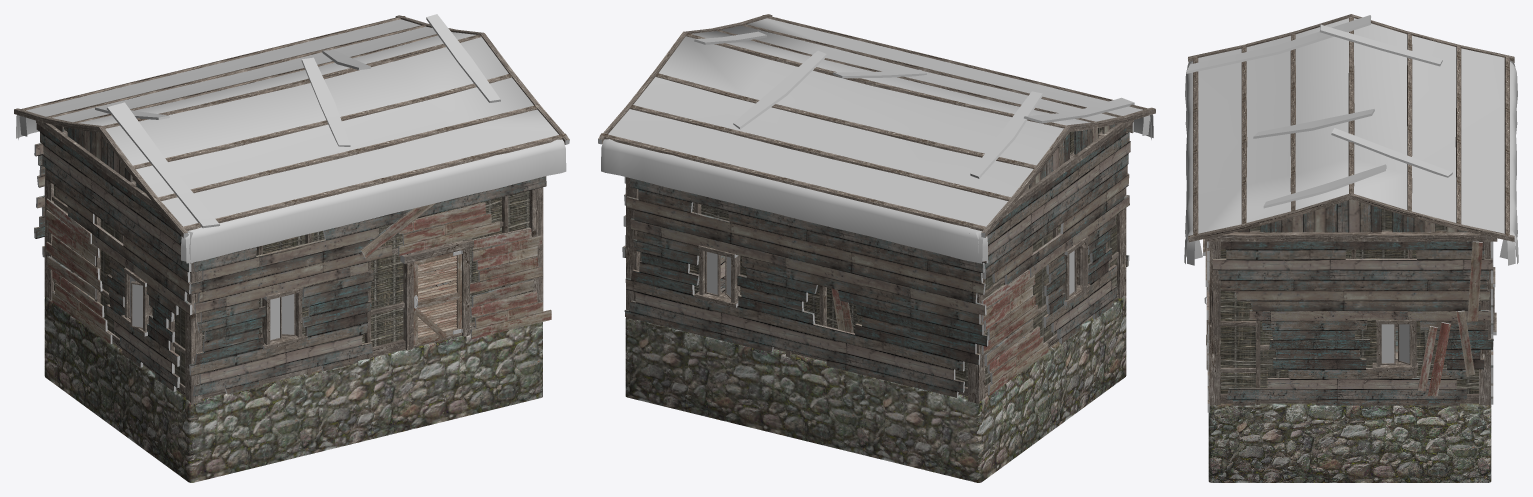
Rendered from House7.fbx.
3 views of the same model, side by side, from view 1: azimuth 30°, elevation 25°; view 2: azimuth 150°, elevation 25°; view 3: azimuth 270°, elevation 25° (orthographic). The views are drawn at different scales.
Visible parts, largest first — view 1: Base, Roof, Floor, Alpha, Doors; view 2: Base, Roof, Floor, Alpha; view 3: Roof, Base, Floor, Alpha.
Boxes of the visible parts, x1,y1,x2,y2 form: Base: (34, 123, 551, 404); Roof: (14, 14, 569, 238); Floor: (44, 268, 542, 482); Alpha: (16, 18, 566, 263); Doors: (413, 250, 462, 346); Base: (622, 121, 1133, 404); Roof: (598, 14, 1155, 237); Floor: (625, 255, 1126, 482); Alpha: (601, 17, 1153, 263); Roof: (1186, 14, 1514, 242); Base: (1203, 239, 1496, 412); Floor: (1208, 324, 1491, 482); Alpha: (1184, 61, 1518, 265).
Size of the model in its own units: 10.68 by 8.43 by 8.33.
